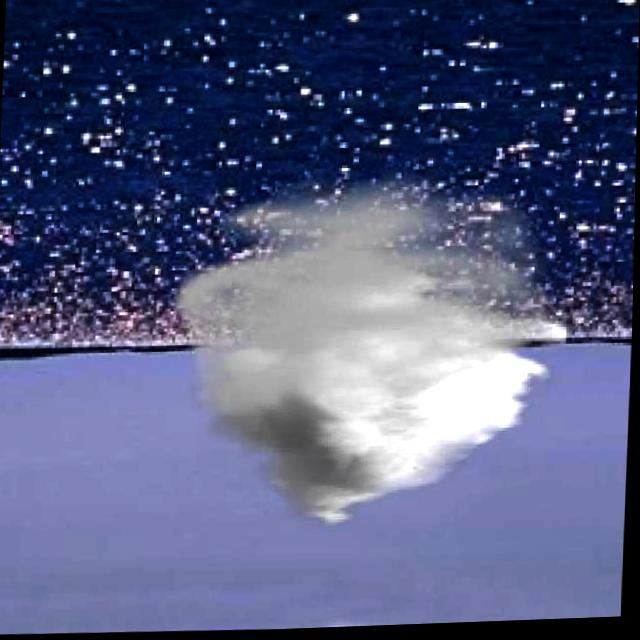Smoke: (158, 174, 573, 533)
